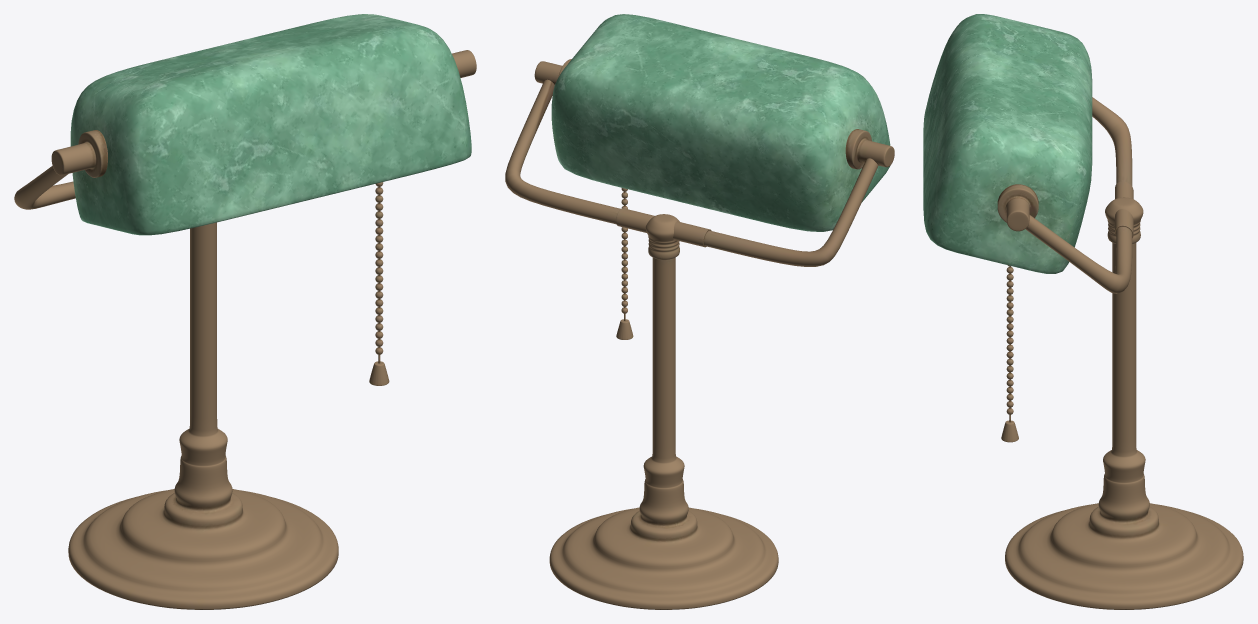
3 renders of one model, left to right at view 1: azimuth 30°, elevation 25°; view 2: azimuth 150°, elevation 25°; view 3: azimuth 270°, elevation 25°, orthographic. The views are drawn at different scales.
Parts seen in each view (by area): view 1: defaultMaterial; view 2: defaultMaterial; view 3: defaultMaterial.
Boxes of the visible parts, x1=… form: defaultMaterial: x1=14, y1=14, x2=476, y2=609; defaultMaterial: x1=505, y1=14, x2=894, y2=609; defaultMaterial: x1=923, y1=14, x2=1243, y2=609.
Bounding box in the file's own units: 1.56 × 2.01 × 1.18.
Materials: 1 (1 with a texture image).
